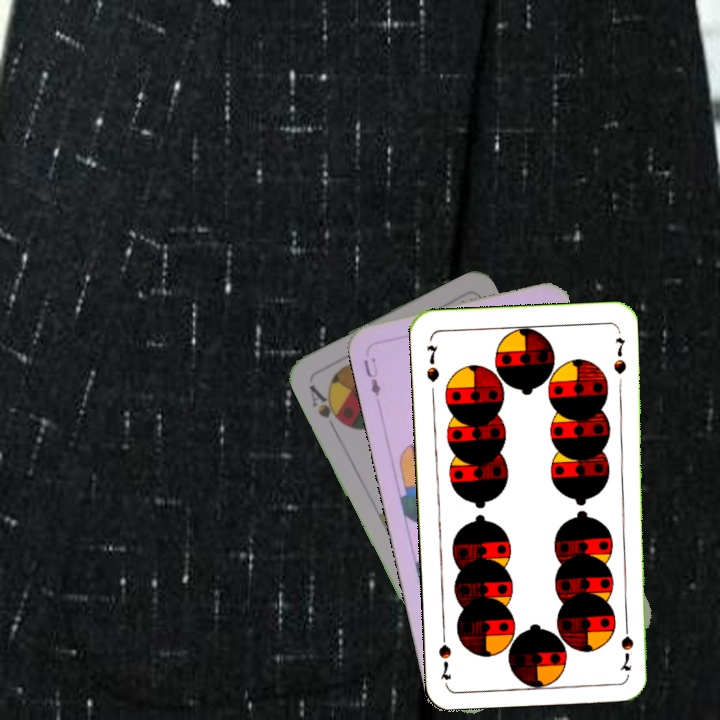EU: (359, 353, 383, 399)
S7: (617, 616, 636, 674), (422, 340, 441, 385)
SA: (305, 380, 346, 426)
